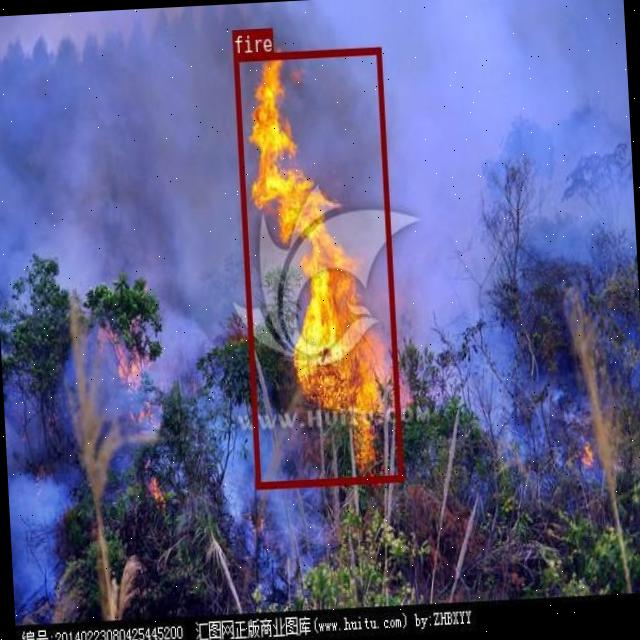fire: (232, 46, 402, 488)
